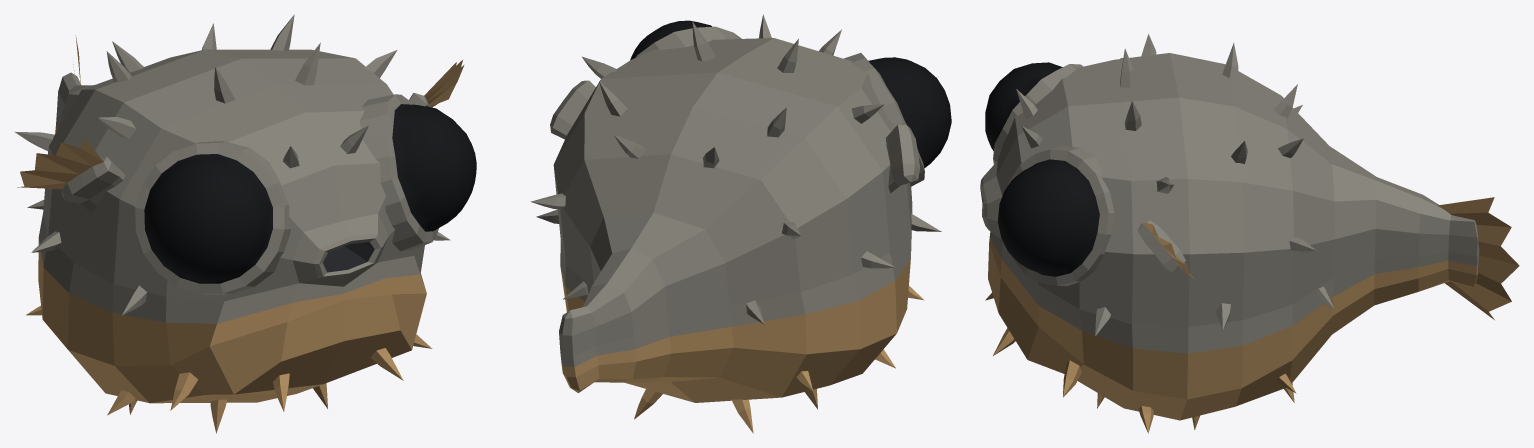
Rendered from cc0-puffer-lod0.glb.
3 views of the same model, side by side, from view 1: azimuth 30°, elevation 25°; view 2: azimuth 150°, elevation 25°; view 3: azimuth 270°, elevation 25° (orthographic). The views are drawn at different scales.
Parts seen in each view (by area): view 1: part_0; view 2: part_0; view 3: part_0.
Boxes of the visible parts, x1,y1,x2,y2 form: part_0: (14, 14, 476, 433); part_0: (530, 14, 951, 433); part_0: (980, 34, 1519, 433).
Size of the model in its own units: 3.44 by 2.69 by 3.94.
